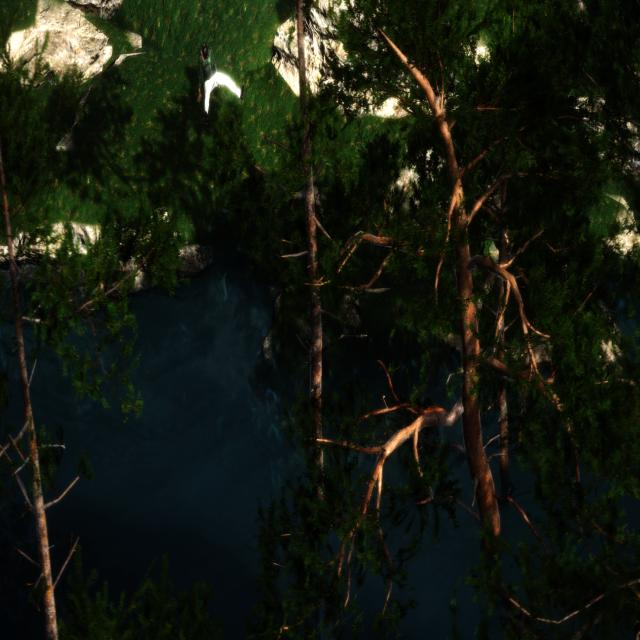Human: (191, 41, 248, 122)
